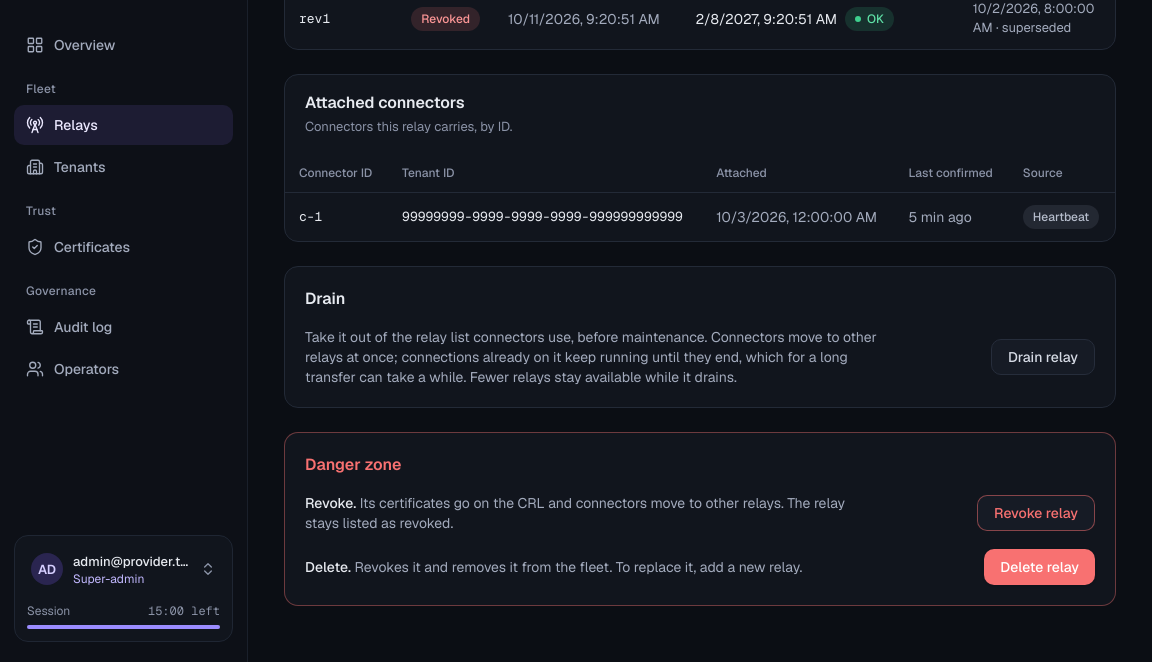
Test case: Relay detail: revoke and delete requests › a double click sends exactly one request
(page scrolled)
Click the button "Revoke relay".
click(1036, 513)  # box [977,495,1095,531]
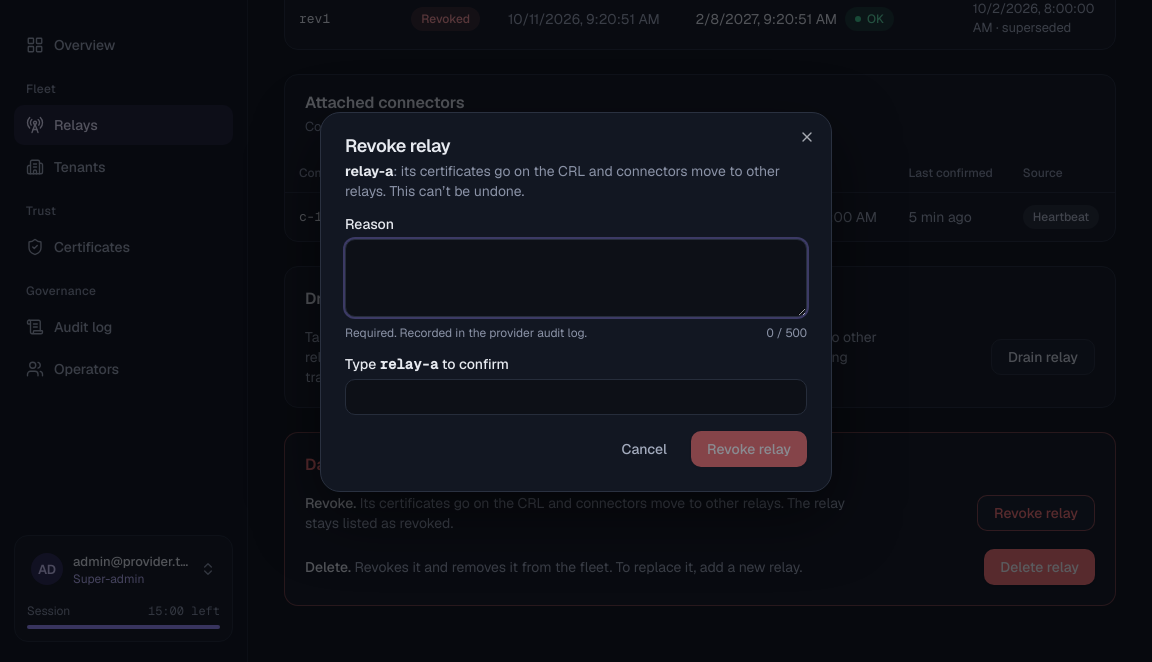
Type "host compromised" into the text box labelled "Reason".
click(576, 278); type("host compromised")  # box [345,239,807,317]
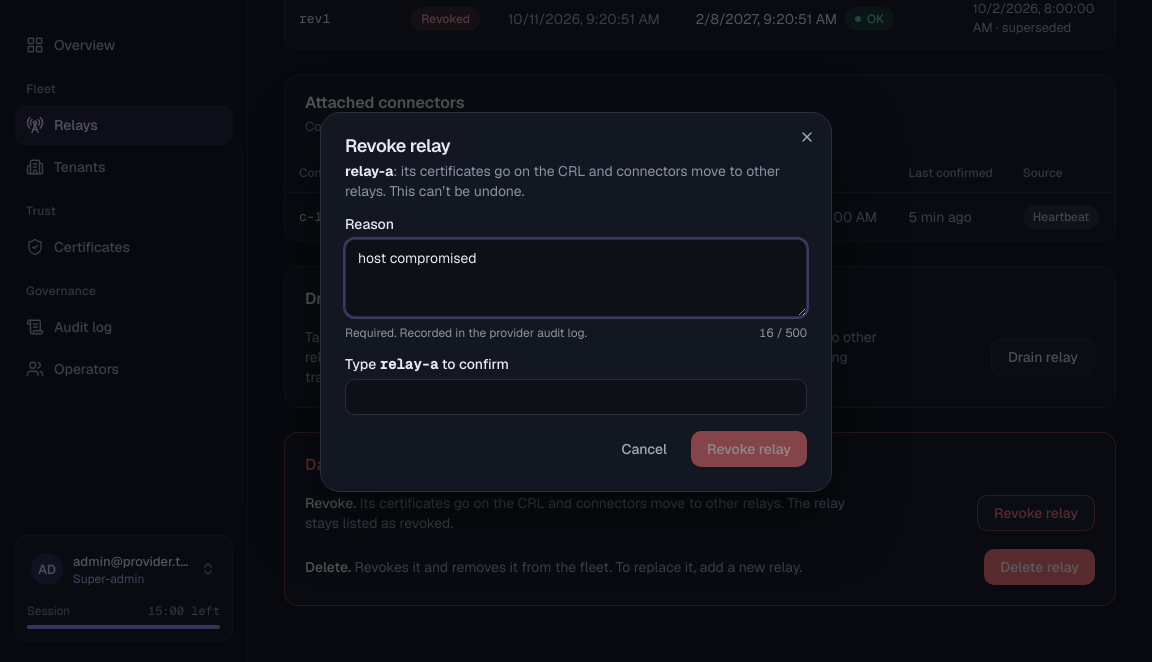
Type "relay-a" into the field labelled "Type relay-a to confirm".
click(576, 397); type("relay-a")  # box [345,379,807,415]
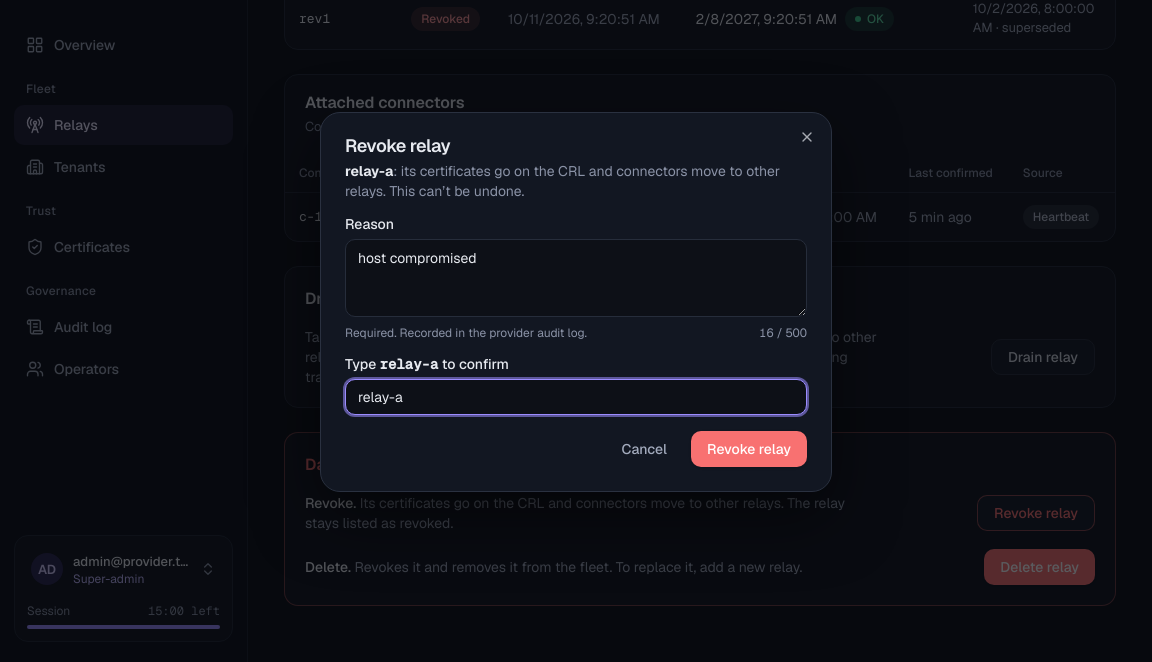
Double-click the button "Revoke relay".
double_click(749, 449)  # box [691,431,807,467]
(page scrolled)
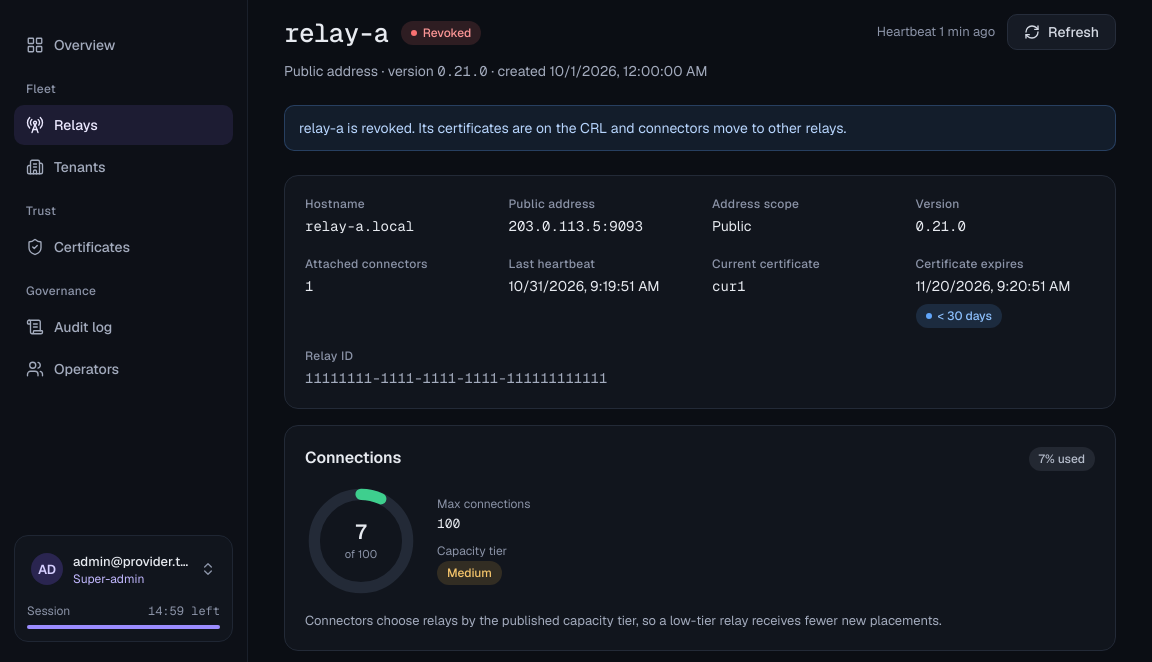
Now the text "relay-a is revoked" is shown, box [299,118,846,136]
